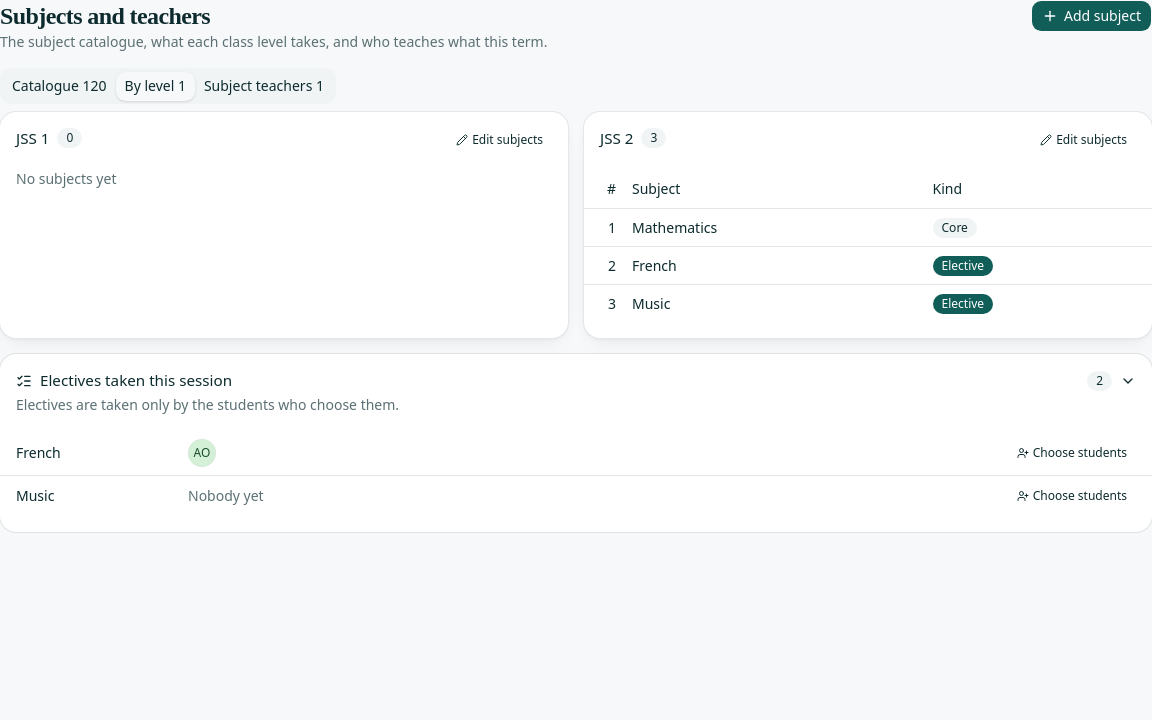
Test: SubjectsPage level subjects sheet › says when the Add a subject select is not showing every active subject
The width and height of the screenshot is (1152, 720).
Click the button "Edit subjects" in the row of "JSS 2" at (1084, 140), box [1031,128,1136,152]
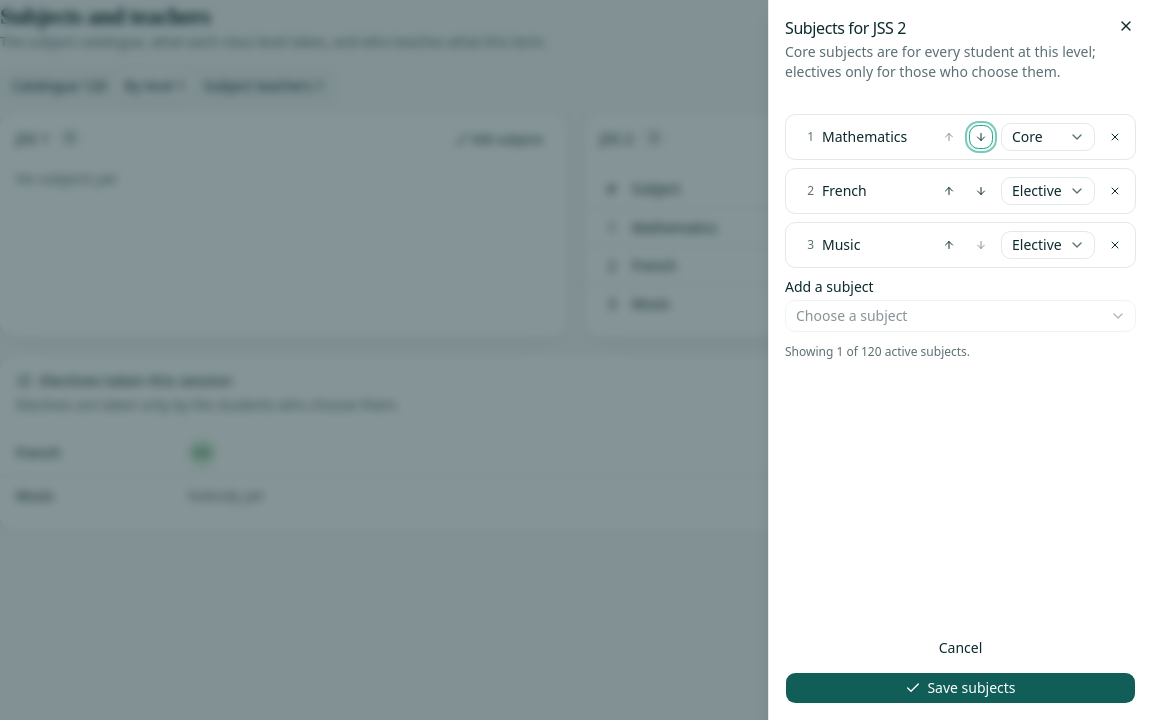
Result: the heading "Subjects for JSS 2" is shown at [785,17,906,39]
Result: the text "Showing 1 of 120 active subjects." is shown at [785,343,970,360]
